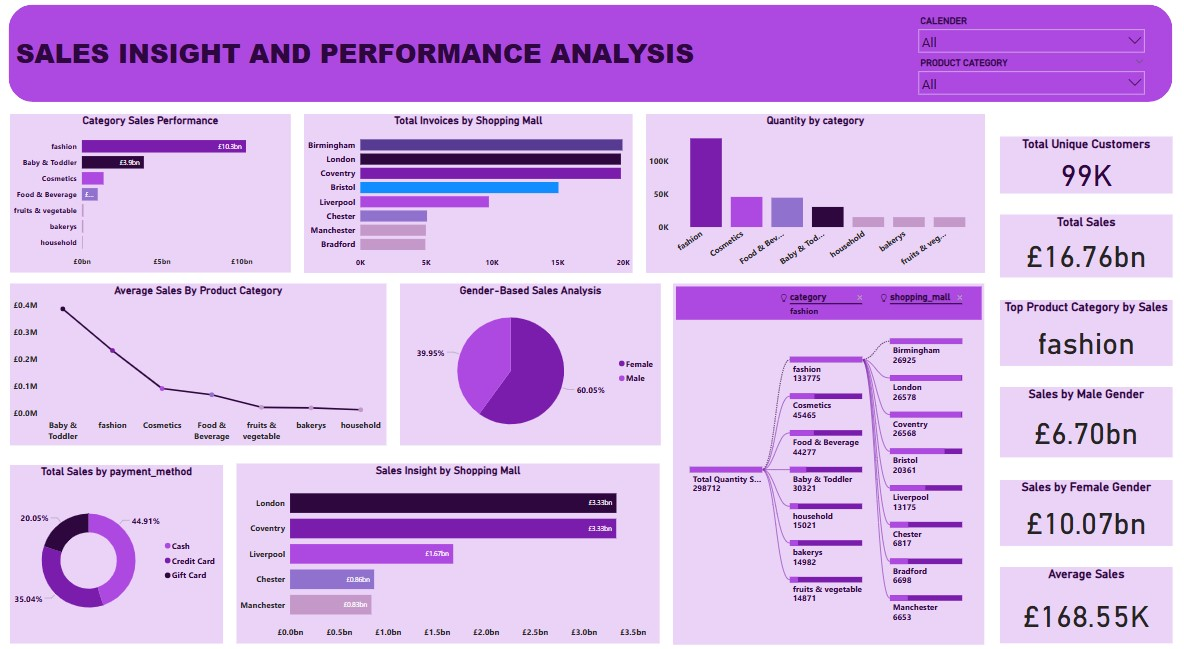

Layout of this report page (visuals, bound fields, positions):
{"tool":"powerbi","page":{"name":"Page 1","canvas":[2150,1200],"ordinal":0},"visuals":[{"type":"group","id":"g1","title":"Group 1","box":[24.3,24.3,2094.2,175.4],"z":0},{"type":"card","title":"Total Sales","fields":{"Values":["Stores Dataset.Total Sales"]},"box":[1808.1,403.2,310.4,113.3],"z":1000},{"type":"card","title":"Sales by Female Gender","fields":{"Values":["Stores Dataset.Sales by Female Gender"]},"box":[1808.1,878.7,310.4,118.7],"z":2000},{"type":"card","title":"Sales by Male Gender","fields":{"Values":["Stores Dataset.Sales by Male Gender"]},"box":[1808.1,713,310.4,126.8],"z":3000},{"type":"barChart","title":"Category Sales Performance","fields":{"Y":["Stores Dataset.Total Sales"],"Category":["Stores Dataset.category"]},"box":[27.5,222.5,505,285],"z":4000},{"type":"barChart","title":"Sales Insight by Shopping Mall","fields":{"Y":["Stores Dataset.Total Sales"],"Category":["Stores Dataset.shopping_mall"]},"box":[434.6,850.1,761,323.8],"z":5000},{"type":"card","title":"Top Product Category by Sales","fields":{"Values":["Stores Dataset.Top Product Category by Sales"]},"box":[1808.1,555.4,310.4,118.7],"z":6000},{"type":"pieChart","title":"Gender-Based Sales Analysis","fields":{"Category":["Stores Dataset.gender"],"Y":["Stores Dataset.Total Sales"]},"box":[727.4,526.2,469.6,291.5],"z":7000},{"type":"card","title":"Average Sales","fields":{"Values":["Stores Dataset.Average Sales"]},"box":[1808.1,1036.3,310.4,137.6],"z":8000},{"type":"card","title":"Total Unique Customers","fields":{"Values":["Stores Dataset.Total Unique Customers"]},"box":[1808.1,261.8,310.4,102.6],"z":9000},{"type":"donutChart","fields":{"Y":["Stores Dataset.Total Sales"],"Category":["Stores Dataset.payment_method"]},"box":[27,852.8,383.2,321.1],"z":10000},{"type":"lineChart","title":"Average Sales  By Product Category","fields":{"Category":["Stores Dataset.category"],"Y":["Stores Dataset.Average Sales"]},"box":[27,526.2,677.4,291.5],"z":11000},{"type":"decompositionTreeVisual","fields":{"Analyze":["Stores Dataset.Total Quantity Sold"],"ExplainBy":["Stores Dataset.category","Stores Dataset.shopping_mall"]},"box":[1220,525,560,650],"z":12000},{"type":"columnChart","title":"Quantity by category","fields":{"Category":["Stores Dataset.category"],"Y":["Stores Dataset.Total Quantity"]},"box":[1171.2,221.3,609.9,286.1],"z":13000},{"type":"shape","box":[24.3,24.3,2094.2,175.4],"z":14000,"group":"g1"},{"type":"clusteredBarChart","title":"Total Invoices by Shopping Mall","fields":{"Category":["Stores Dataset.shopping_mall"],"Y":["Stores Dataset.Total Invoices"]},"box":[555.9,221.3,591,286.1],"z":14000},{"type":"slicer","fields":{"Values":["Stores Dataset.Invoice Date.Variation.Date Hierarchy.Year"]},"box":[1652.5,37.8,426.7,75.6],"z":15000,"group":"g1"},{"type":"slicer","fields":{"Values":["Stores Dataset.category"]},"box":[1652.5,113.4,426.7,75.6],"z":16000,"group":"g1"}]}

Visuals, with their boxes in screenshot pixels (x1, y1, x2, y2), scaled from the page's 2150x1200 canvas onto the 1184x649 screenshot:
"Group 1" group: bbox=[13, 13, 1167, 108]
"Total Sales" card: bbox=[996, 218, 1167, 279]
"Sales by Female Gender" card: bbox=[996, 475, 1167, 539]
"Sales by Male Gender" card: bbox=[996, 386, 1167, 454]
"Category Sales Performance" barChart: bbox=[15, 120, 293, 274]
"Sales Insight by Shopping Mall" barChart: bbox=[239, 460, 658, 635]
"Top Product Category by Sales" card: bbox=[996, 300, 1167, 365]
"Gender-Based Sales Analysis" pieChart: bbox=[401, 285, 659, 442]
"Average Sales" card: bbox=[996, 560, 1167, 635]
"Total Unique Customers" card: bbox=[996, 142, 1167, 197]
donutChart - Stores Dataset.Total Sales x Stores Dataset.payment_method: bbox=[15, 461, 226, 635]
"Average Sales  By Product Category" lineChart: bbox=[15, 285, 388, 442]
decompositionTreeVisual - Stores Dataset.Total Quantity Sold x Stores Dataset.category: bbox=[672, 284, 980, 635]
"Quantity by category" columnChart: bbox=[645, 120, 981, 274]
shape: bbox=[13, 13, 1167, 108]
"Total Invoices by Shopping Mall" clusteredBarChart: bbox=[306, 120, 632, 274]
slicer - Stores Dataset.Invoice Date.Variation.Date Hierarchy.Year: bbox=[910, 20, 1145, 61]
slicer - Stores Dataset.category: bbox=[910, 61, 1145, 102]
